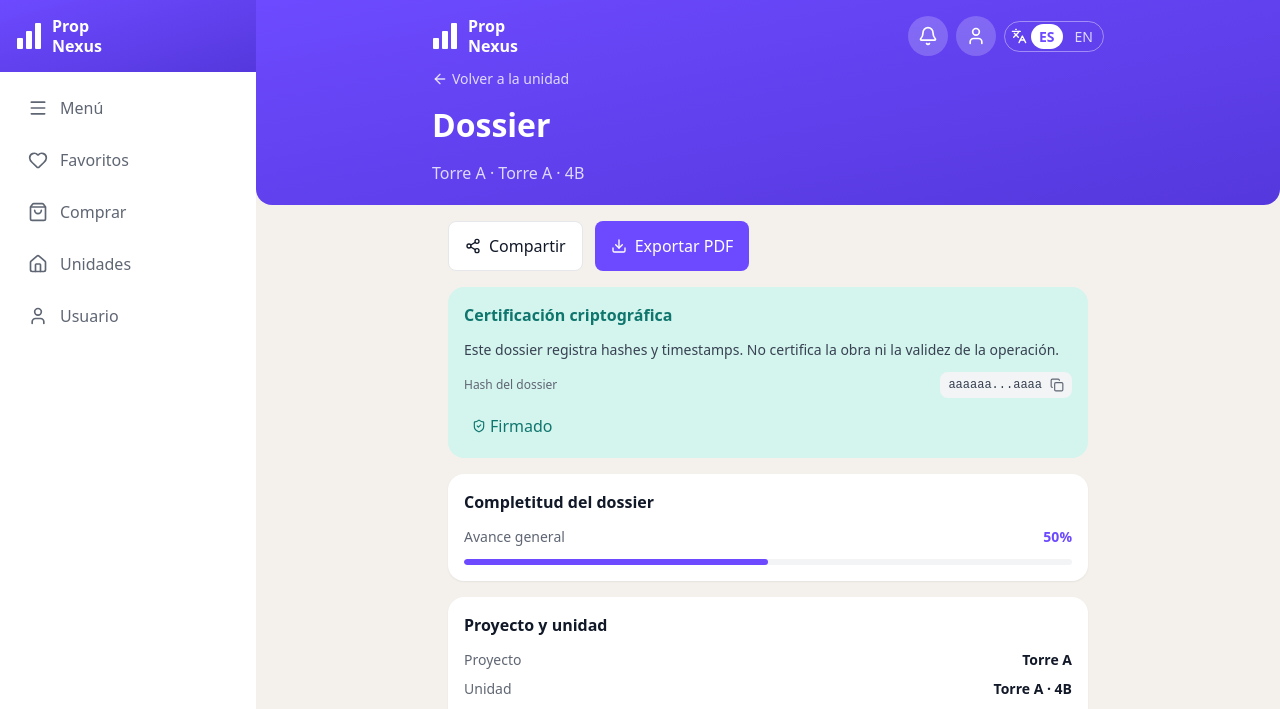
Scenario: /investor/unit/$unitId/dossier › INV-DOSSIER-SHARE-001: compartir abre el modal con el enlace público
Click the button "Compartir".
click(515, 246)  # box 448,221 -> 583,271
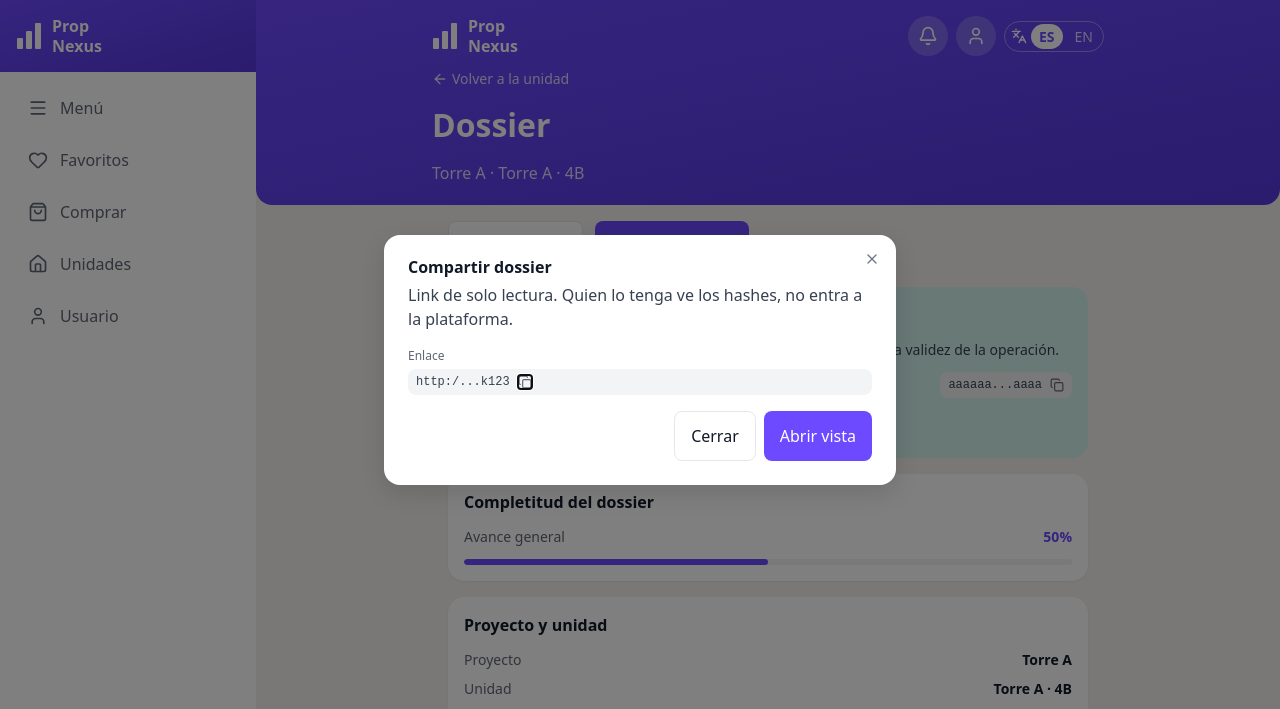
expect the dialog with test id "INV-DOSSIER-SHARE-001" shows "Compartir dossier": met, box 408,256 -> 552,278
expect the dialog with test id "INV-DOSSIER-SHARE-001" shows "k123": met, box 416,375 -> 510,389
